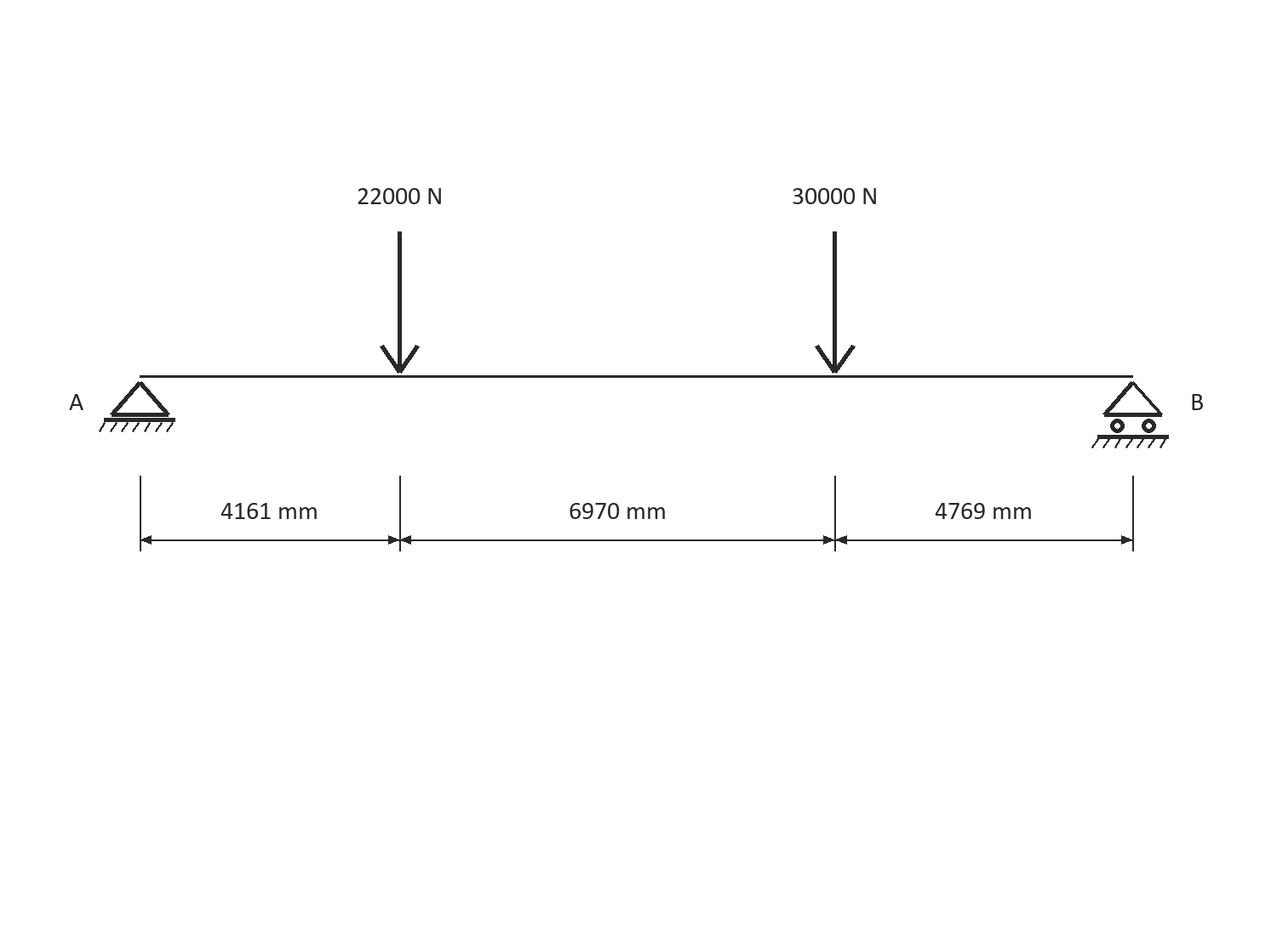pin_support: (99, 381, 175, 432)
point_load: (815, 231, 856, 374), (380, 231, 420, 374)
roller_support: (1091, 381, 1169, 448)
